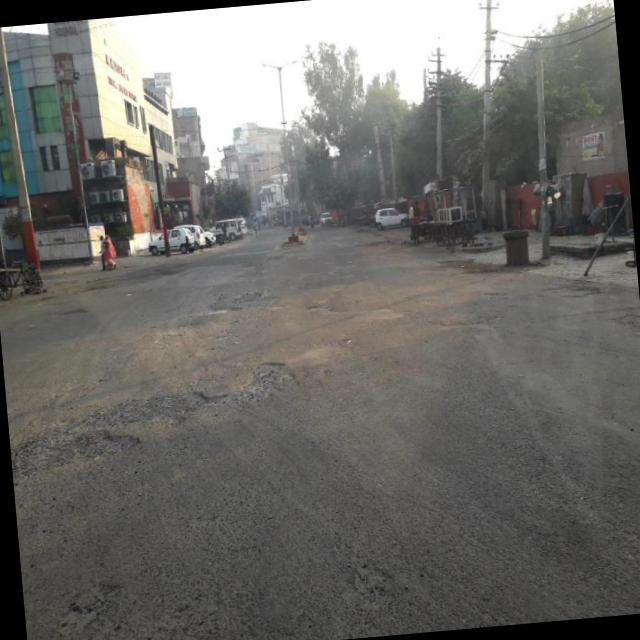pothole: (44, 492, 481, 640), (4, 342, 324, 501)
